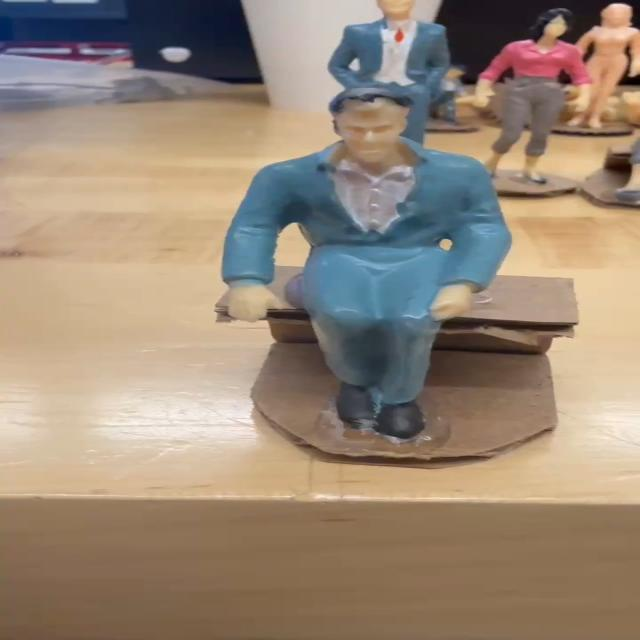Authorized: (215, 90, 511, 442)
